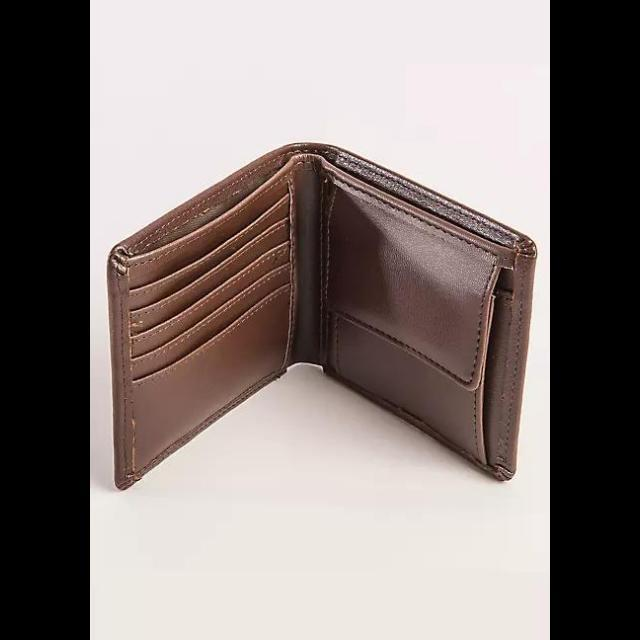Wallet: (108, 144, 536, 488)
